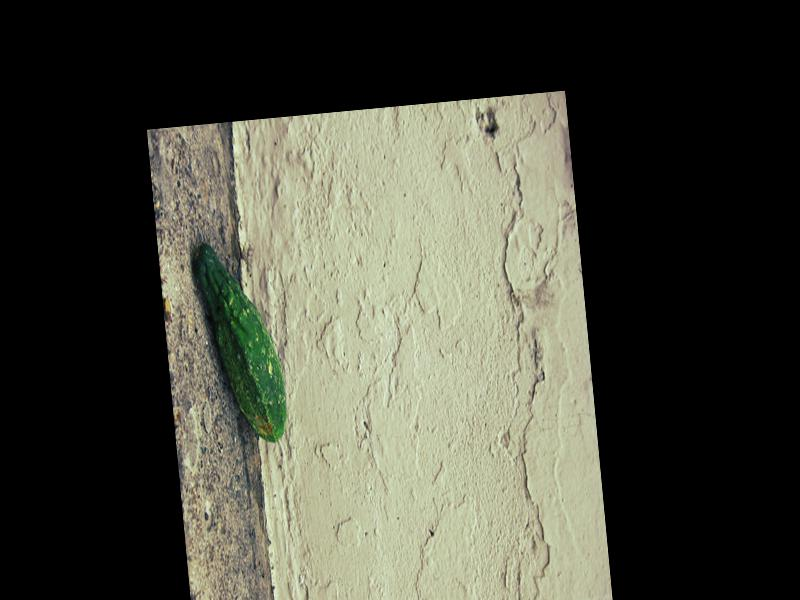Cucumber: (192, 239, 290, 448)
